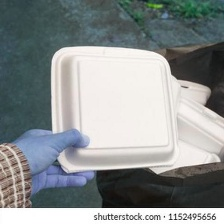foam_box: (44, 42, 185, 177), (169, 95, 224, 157), (143, 136, 224, 178), (167, 77, 213, 109)
